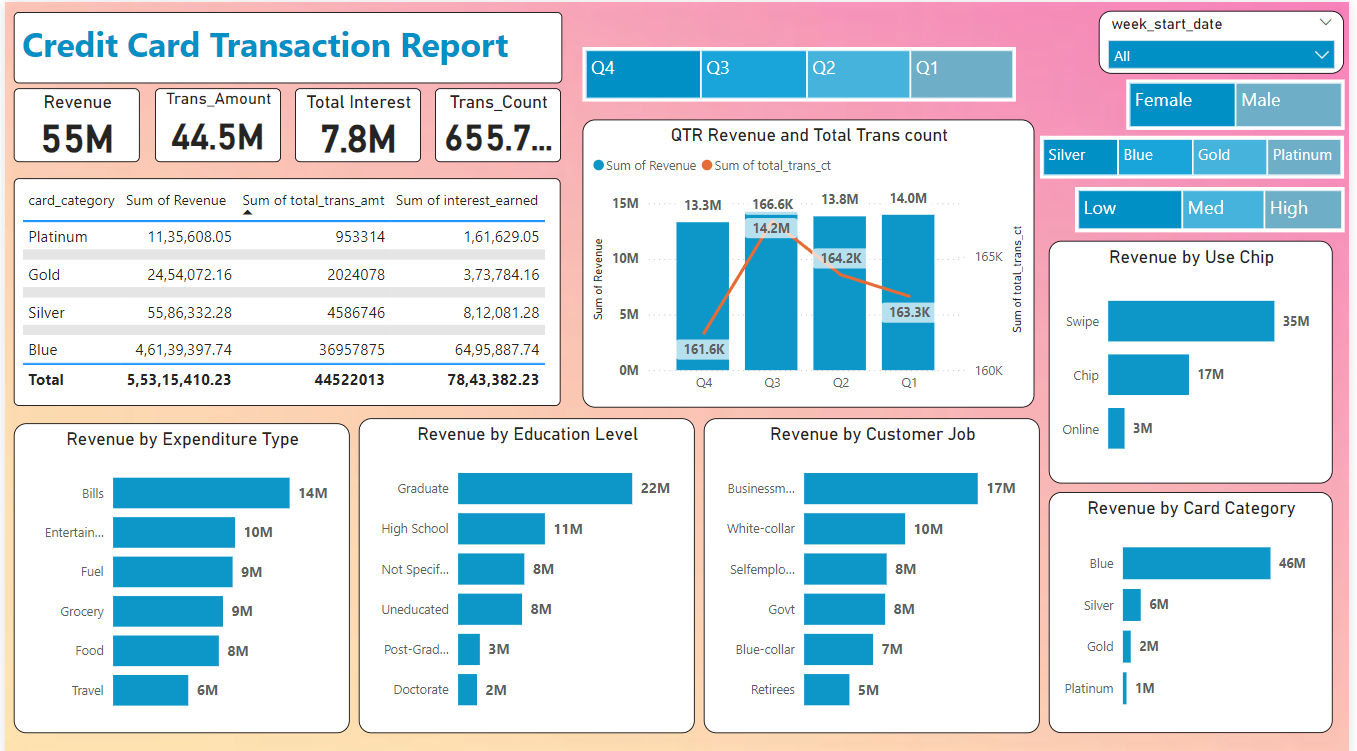

What the dashboard file says about the page in this screenshot:
{"tool":"powerbi","page":{"name":"Cc Transaction ","canvas":[1280,720],"ordinal":0},"visuals":[{"type":"textbox","box":[7.9,8.9,522.1,67.9],"z":0},{"type":"lineStackedColumnComboChart","title":"QTR Revenue and Total Trans count","fields":{"Category":["public cc_detail.qtr"],"Y":["Sum(public cc_detail.Revenue)"],"Y2":["Sum(public cc_detail.total_trans_ct)"]},"box":[550.6,111.8,430.6,274.1],"z":1000},{"type":"barChart","title":"Revenue by Expenditure Type","fields":{"Y":["Sum(public cc_detail.Revenue)"],"Category":["public cc_detail.exp_type"]},"box":[8.3,401.2,320,295.2],"z":2000},{"type":"barChart","title":"Revenue by Education Level","fields":{"Y":["Sum(public cc_detail.Revenue)"],"Category":["public cust_detail.education_level"]},"box":[336.9,396.4,320,300],"z":3000},{"type":"barChart","title":"Revenue by Customer Job","fields":{"Y":["Sum(public cc_detail.Revenue)"],"Category":["public cust_detail.customer_job"]},"box":[665.5,396.4,320.2,300],"z":4000},{"type":"barChart","title":"Revenue by Card Category","fields":{"Y":["Sum(public cc_detail.Revenue)"],"Category":["public cc_detail.card_category"]},"box":[994,466.7,270.2,229.8],"z":5000},{"type":"barChart","title":"Revenue by Use Chip","fields":{"Y":["Sum(public cc_detail.Revenue)"],"Category":["public cc_detail.use_chip"]},"box":[994,227.4,270.2,231],"z":6000},{"type":"tableEx","fields":{"Values":["public cc_detail.card_category","Sum(public cc_detail.Revenue)","Sum(public cc_detail.total_trans_amt)","Sum(public cc_detail.interest_earned)"]},"box":[8.2,168.2,521.2,216.5],"z":7000},{"type":"card","title":"Revenue","fields":{"Values":["Sum(public cc_detail.Revenue)"]},"box":[7.8,82.2,120,70],"z":8000},{"type":"card","title":"Trans_Amount ","fields":{"Values":["Sum(public cc_detail.total_trans_amt)"]},"box":[143.3,82.2,120,70],"z":9000},{"type":"card","title":"Trans_Count","fields":{"Values":["Sum(public cc_detail.total_trans_ct)"]},"box":[410,82.2,120,70],"z":10000},{"type":"card","title":"Total Interest","fields":{"Values":["Sum(public cc_detail.interest_earned)"]},"box":[276.7,82.2,120,70],"z":11000},{"type":"slicer","fields":{"Values":["public cc_detail.week_start_date"]},"box":[1042.1,8.3,233.8,60],"z":12000},{"type":"treemap","fields":{"Group":["public cc_detail.qtr"],"Values":["Avg(public cc_detail.client_num)"]},"box":[550.6,42.4,412.9,51.8],"z":13000},{"type":"treemap","fields":{"Values":["Avg(public cc_detail.client_num)"],"Group":["public cust_detail.gender"]},"box":[1067.9,73.3,207.9,47.9],"z":14000},{"type":"treemap","fields":{"Group":["public cc_detail.card_category"],"Values":["Avg(public cc_detail.client_num)"]},"box":[986.2,127.9,289.6,40.4],"z":15000},{"type":"treemap","fields":{"Group":["public cust_detail.IncomeGroup"],"Values":["CountNonNull(public cc_detail.client_num)"]},"box":[1018.8,175.8,257.1,42.9],"z":16000}]}

Visuals, with their boxes in screenshot pixels (x1, y1, x2, y2), scaled from the page's 1280x720 canvas onto the 1357x751 screenshot:
textbox: {"x1": 8, "y1": 9, "x2": 562, "y2": 80}
"QTR Revenue and Total Trans count" lineStackedColumnComboChart: {"x1": 584, "y1": 117, "x2": 1040, "y2": 403}
"Revenue by Expenditure Type" barChart: {"x1": 9, "y1": 418, "x2": 348, "y2": 726}
"Revenue by Education Level" barChart: {"x1": 357, "y1": 413, "x2": 696, "y2": 726}
"Revenue by Customer Job" barChart: {"x1": 706, "y1": 413, "x2": 1045, "y2": 726}
"Revenue by Card Category" barChart: {"x1": 1054, "y1": 487, "x2": 1340, "y2": 726}
"Revenue by Use Chip" barChart: {"x1": 1054, "y1": 237, "x2": 1340, "y2": 478}
tableEx - public cc_detail.card_category x Sum(public cc_detail.Revenue): {"x1": 9, "y1": 175, "x2": 561, "y2": 401}
"Revenue" card: {"x1": 8, "y1": 86, "x2": 135, "y2": 159}
"Trans_Amount " card: {"x1": 152, "y1": 86, "x2": 279, "y2": 159}
"Trans_Count" card: {"x1": 435, "y1": 86, "x2": 562, "y2": 159}
"Total Interest" card: {"x1": 293, "y1": 86, "x2": 421, "y2": 159}
slicer - public cc_detail.week_start_date: {"x1": 1105, "y1": 9, "x2": 1353, "y2": 71}
treemap - public cc_detail.qtr x Avg(public cc_detail.client_num): {"x1": 584, "y1": 44, "x2": 1021, "y2": 98}
treemap - Avg(public cc_detail.client_num) x public cust_detail.gender: {"x1": 1132, "y1": 76, "x2": 1353, "y2": 126}
treemap - public cc_detail.card_category x Avg(public cc_detail.client_num): {"x1": 1046, "y1": 133, "x2": 1353, "y2": 176}
treemap - public cust_detail.IncomeGroup x CountNonNull(public cc_detail.client_num): {"x1": 1080, "y1": 183, "x2": 1353, "y2": 228}
